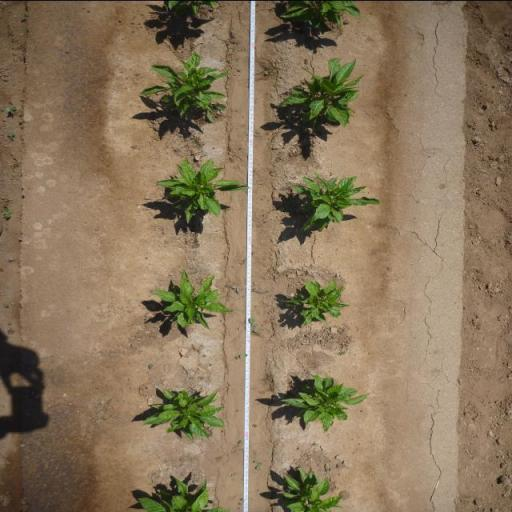plant: (277, 52, 366, 132), (286, 169, 384, 239), (152, 156, 246, 226), (280, 370, 373, 432), (136, 48, 230, 106), (148, 271, 234, 333), (140, 385, 230, 442), (280, 276, 350, 328), (133, 476, 230, 512), (278, 465, 345, 512), (276, 0, 362, 36), (162, 0, 219, 18)
weed: (4, 102, 18, 114), (249, 318, 260, 332), (0, 208, 14, 218), (252, 460, 262, 470), (5, 130, 15, 140), (234, 353, 248, 359), (10, 160, 20, 168), (19, 12, 28, 19), (336, 349, 346, 355), (6, 328, 16, 334), (8, 256, 16, 262), (2, 302, 10, 308), (147, 363, 154, 369), (251, 422, 258, 428), (237, 438, 243, 444), (6, 320, 12, 326), (231, 471, 238, 476)
